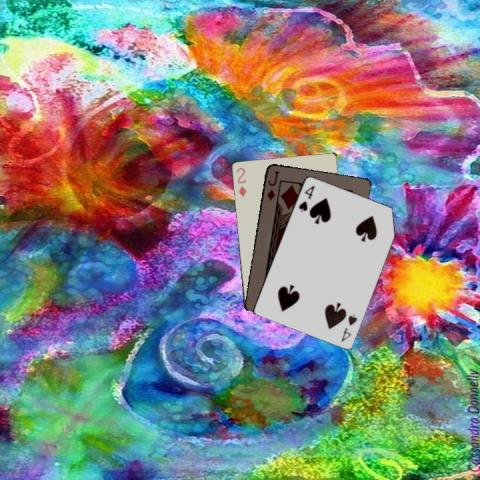2d: (234, 164, 248, 197)
4s: (295, 182, 316, 213), (338, 310, 358, 342)
Jd: (264, 167, 281, 202)
